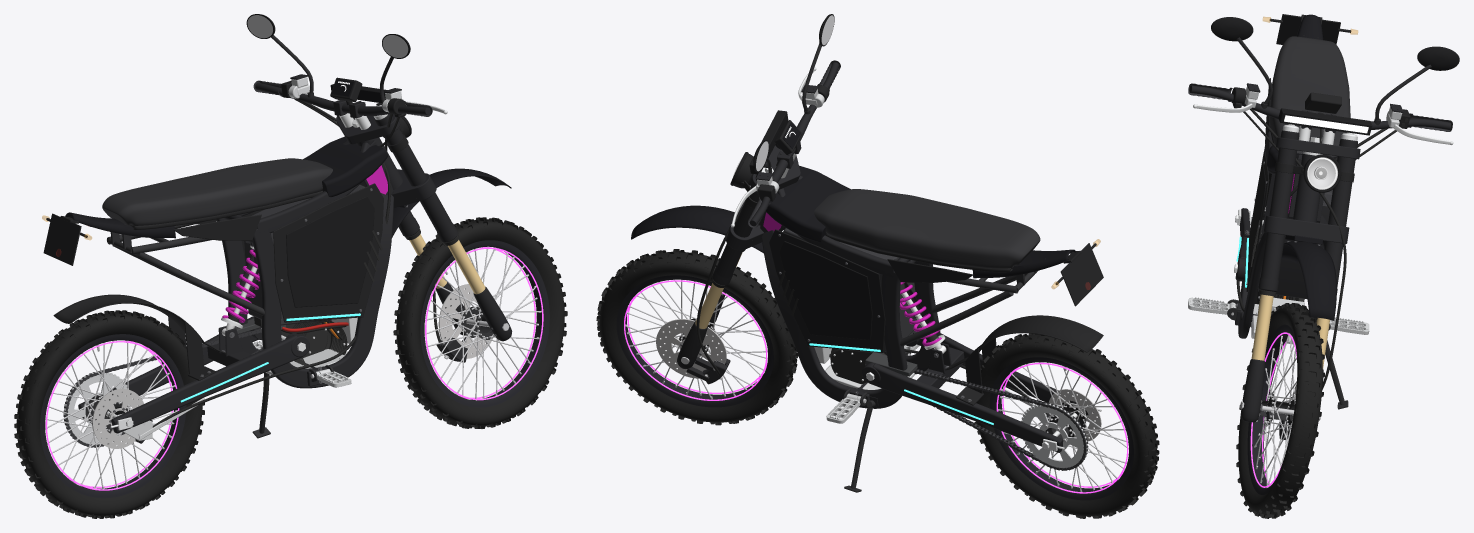
Rendered from surron-light-bee-x-nightrider.glb.
The picture shows the model from 3 angles, left to right: view 1: azimuth 30°, elevation 25°; view 2: azimuth 150°, elevation 25°; view 3: azimuth 270°, elevation 25°; orthographic projection. The views are drawn at different scales.
Visible parts, largest first — view 1: Tire_R, Tire_F, Seat, Frame_Main, SidePanel_Inner_R, Swingarm_Arms, SidePanel_R, Rim_F, Rim_R, Spokes_F, Spokes_R, TankCover (+24 smaller); view 2: Seat, Tire_F, Tire_R, Frame_Main, SidePanel_Inner_L, Swingarm_Arms, Rim_F, SidePanel_L, Rim_R, TankCover, Swingarm_Hugger, Spokes_R (+19 smaller); view 3: Tire_F, Seat, FrontFender, Fork_Upper_R, Spokes_F, Frame_Main, Rim_F, Acc_Mirror_Heads, Fork_Upper_L, Battery_Pack, TripleClamp_Lower, Fork_Lug_R (+25 smaller).
Boxes of the visible parts, box(x1,y1,x2,y2) form: Tire_R: box(14, 310, 204, 518); Tire_F: box(393, 217, 567, 428); Seat: box(102, 158, 332, 225); Frame_Main: box(216, 140, 393, 388); SidePanel_Inner_R: box(286, 196, 374, 307); Swingarm_Arms: box(78, 316, 309, 433); SidePanel_R: box(273, 183, 383, 322); Rim_F: box(420, 240, 549, 407); Rim_R: box(40, 334, 186, 498); Spokes_F: box(424, 249, 540, 398); Spokes_R: box(45, 341, 176, 488); TankCover: box(303, 136, 387, 196); Seat: box(814, 189, 1040, 268); Tire_F: box(596, 249, 798, 425); Tire_R: box(974, 333, 1159, 518); Frame_Main: box(760, 175, 940, 408); SidePanel_Inner_L: box(779, 241, 872, 339); Swingarm_Arms: box(862, 324, 1093, 452); Rim_F: box(616, 275, 773, 407); SidePanel_L: box(769, 229, 885, 352); Rim_R: box(989, 357, 1133, 500); TankCover: box(765, 165, 850, 242); Swingarm_Hugger: box(963, 315, 1103, 365); Spokes_R: box(998, 362, 1128, 491); Tire_F: box(1236, 303, 1324, 518); Seat: box(1269, 36, 1350, 157); FrontFender: box(1281, 241, 1336, 320); Fork_Upper_R: box(1258, 130, 1299, 291); Spokes_F: box(1254, 335, 1296, 485); Frame_Main: box(1235, 131, 1327, 338); Rim_F: box(1247, 324, 1295, 494); Acc_Mirror_Heads: box(1211, 17, 1459, 70); Fork_Upper_L: box(1324, 139, 1357, 294); Battery_Pack: box(1258, 174, 1332, 298); TripleClamp_Lower: box(1263, 215, 1349, 243); Fork_Lug_R: box(1241, 359, 1265, 422).
Size of the model in its own units: 1.88 by 1.38 by 0.7781.
